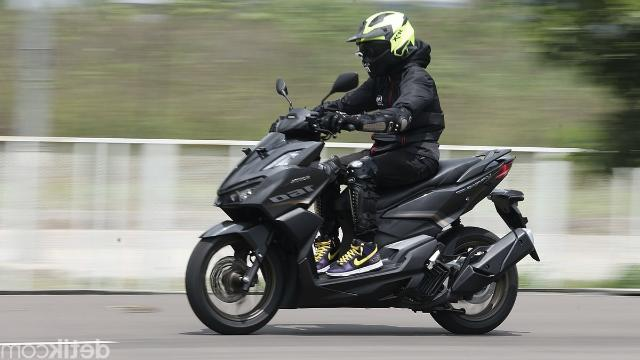helm: (346, 12, 418, 77)
motor: (184, 73, 542, 336)
